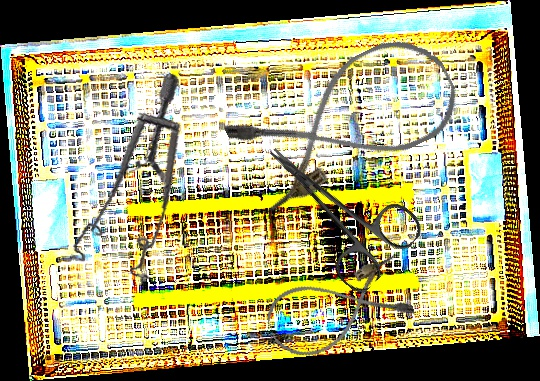Cannula: (220, 23, 471, 218), (260, 251, 417, 367)
Iris Scissors: (241, 113, 428, 298)
Speculum: (44, 72, 209, 292)
